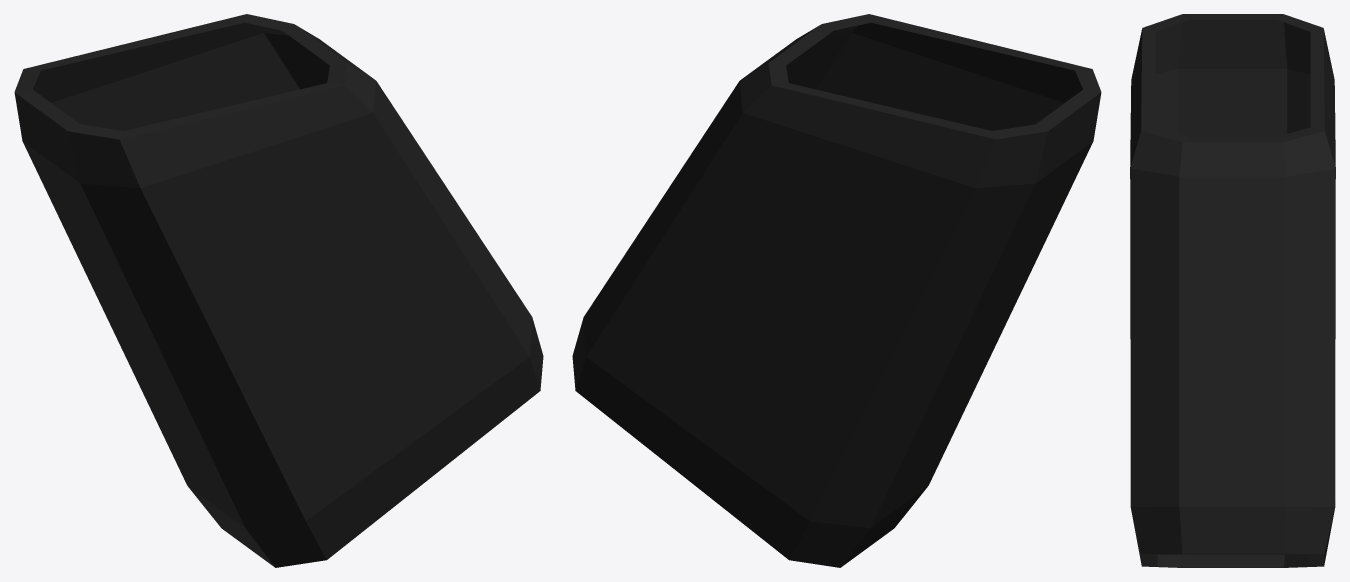
The model's file is MGP7_Attachment_HandleV1.glb.
3 renders of one model, left to right at view 1: azimuth 30°, elevation 25°; view 2: azimuth 150°, elevation 25°; view 3: azimuth 270°, elevation 25°, orthographic. The views are drawn at different scales.
Visible parts, largest first — view 1: MGP7_Attachment_Grip_V1; view 2: MGP7_Attachment_Grip_V1; view 3: MGP7_Attachment_Grip_V1.
Boxes of the visible parts, box(x1,y1,x2,y2) form: MGP7_Attachment_Grip_V1: box(14, 14, 543, 567); MGP7_Attachment_Grip_V1: box(572, 14, 1101, 567); MGP7_Attachment_Grip_V1: box(1130, 14, 1335, 567).
Size of the model in its own units: 0.0935 by 0.0917 by 0.0372.
Materials: 1 (1 with a texture image).
